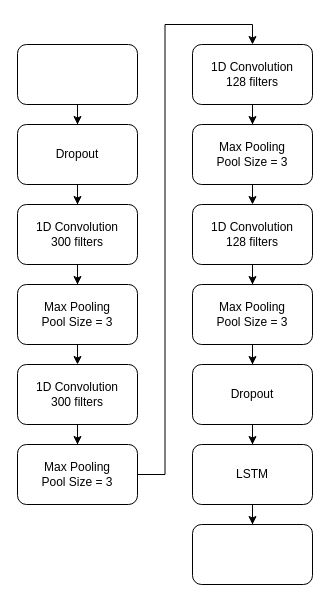
Some shapes in this 330 by 602 pixel diagram are drawn without their labels. Each missing label, with the box of its shape:
Dense - SoftMax 20 Output Nodes: (192, 524, 312, 584)
Pretrained Embeddings: (16, 44, 138, 104)
